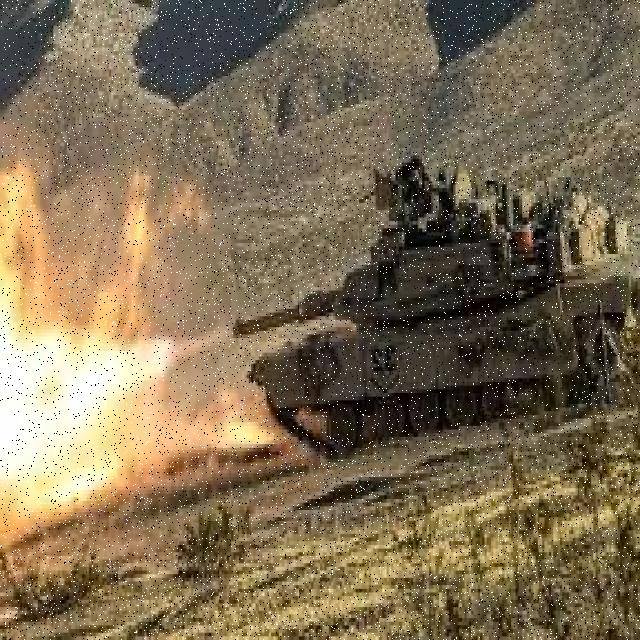MIL_MBT: (207, 76, 633, 525)
